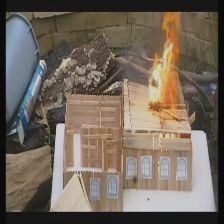fire: (133, 11, 189, 126)
